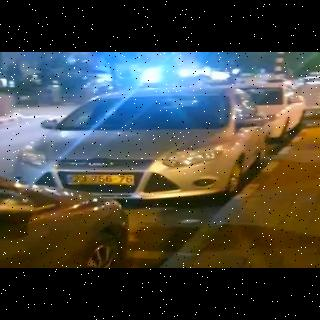LicensePlate: (72, 175, 134, 184)
